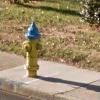Hydrant: (16, 16, 47, 84)
